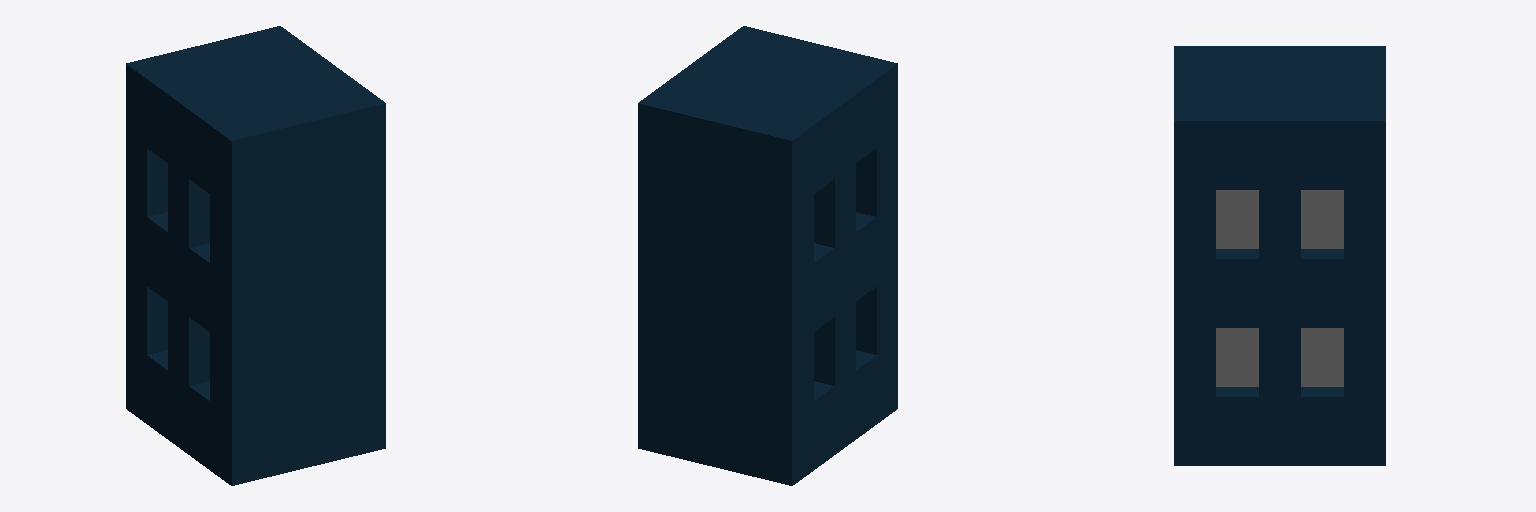
Rendered from Tower.obj.
The picture shows the model from 3 angles: view 1: azimuth 30°, elevation 25°; view 2: azimuth 150°, elevation 25°; view 3: azimuth 270°, elevation 25°; orthographic projection.
Visible parts, largest first — view 1: Tower; view 2: Tower; view 3: Tower.
Part boxes in pixels (x1,y1,x2,y2): Tower: (126,26,385,485); Tower: (638,26,897,485); Tower: (1174,46,1385,465).
Size of the model in its own units: 5 by 10.66 by 5.93.